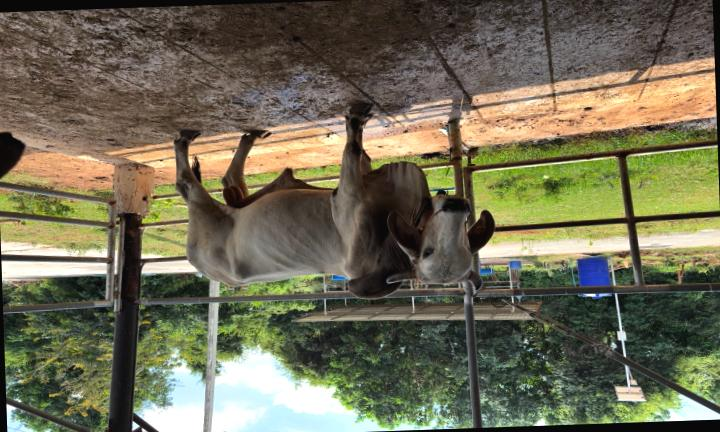Brahman: (174, 105, 494, 299)
